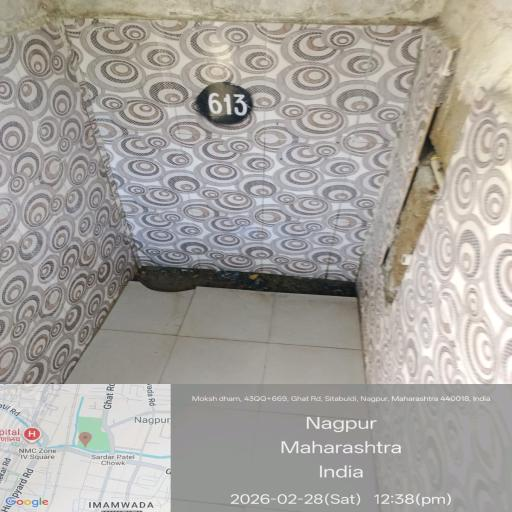clean_floor: (40, 56, 466, 460)
